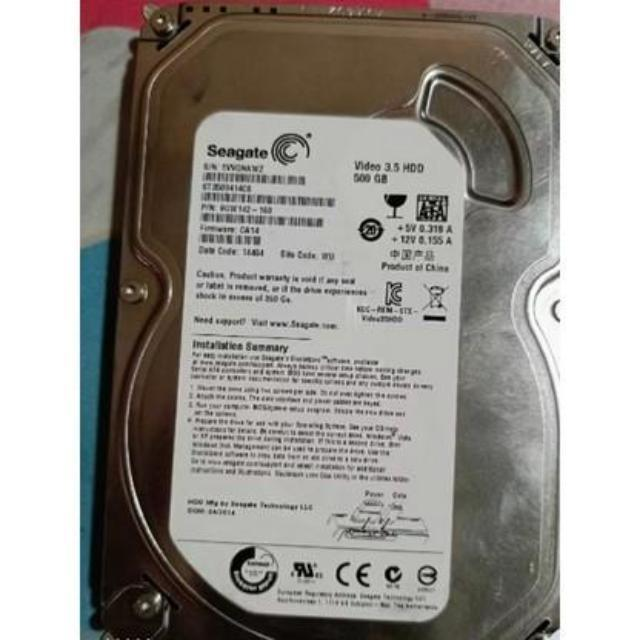DISK: (116, 0, 562, 640)
